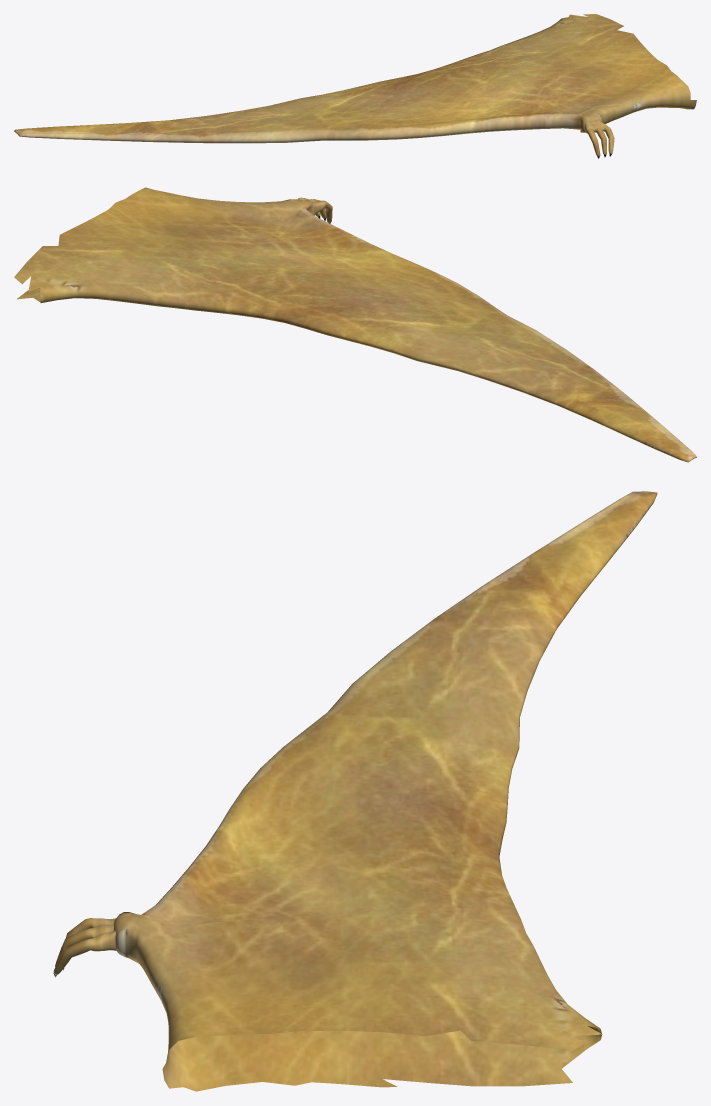
Rendered from AlaDerPtera.obj.
The picture shows the model from 3 angles, top to bottom: view 1: azimuth 30°, elevation 25°; view 2: azimuth 150°, elevation 25°; view 3: azimuth 270°, elevation 25°; orthographic projection. The views are drawn at different scales.
Visible parts, largest first — view 1: AlaDerechaPtera; view 2: AlaDerechaPtera; view 3: AlaDerechaPtera.
Boxes of the visible parts, x1,y1,x2,y2 form: AlaDerechaPtera: [14, 14, 696, 158]; AlaDerechaPtera: [14, 187, 696, 462]; AlaDerechaPtera: [53, 491, 657, 1091].
Bounding box in the file's own units: 41.46 × 2.29 × 19.2.
1 material, 1 textured.
